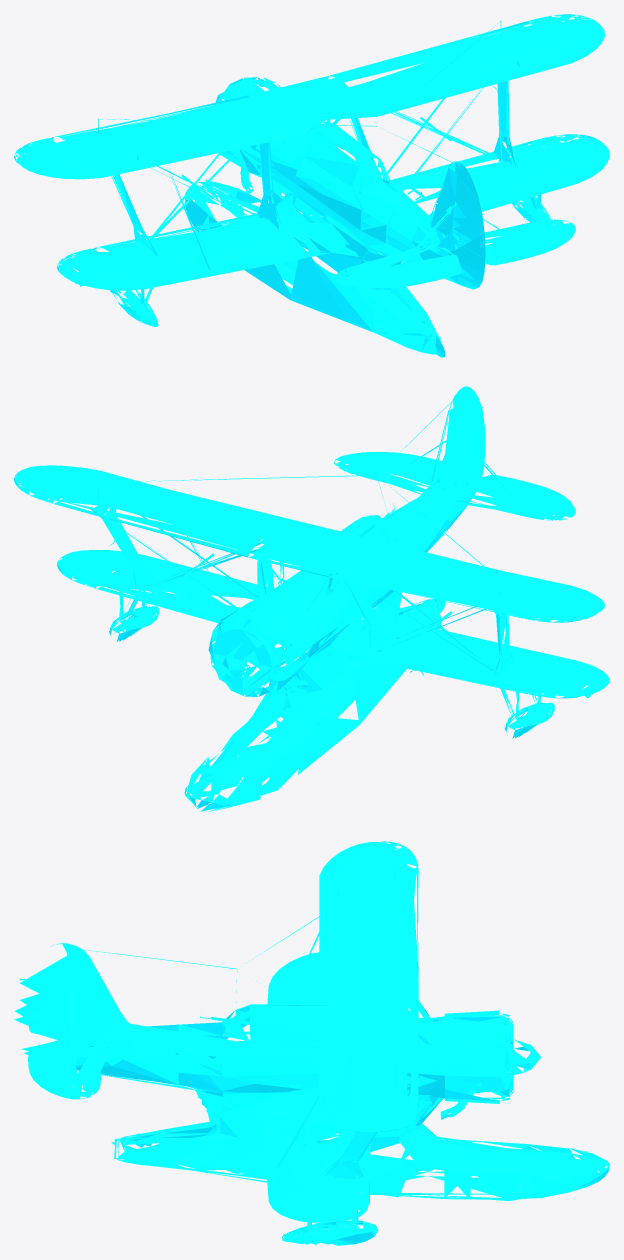
File: PRAS005.glb
3 views of the same model, one above another, from view 1: azimuth 30°, elevation 25°; view 2: azimuth 150°, elevation 25°; view 3: azimuth 270°, elevation 25° (orthographic). The views are drawn at different scales.
Visible parts, largest first — view 1: misc; view 2: misc; view 3: misc.
Boxes of the visible parts, bbox=[...] form: misc: bbox=[14, 14, 609, 357]; misc: bbox=[14, 386, 609, 812]; misc: bbox=[14, 841, 609, 1245].
Size of the model in its own units: 0.6977 by 0.2883 by 0.6064.
